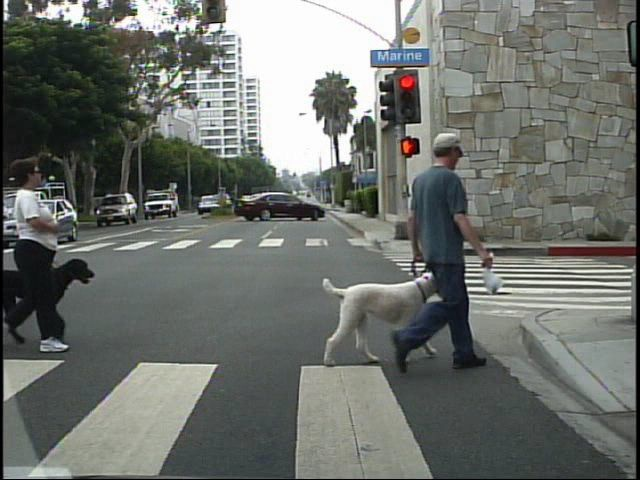person: (381, 113, 498, 375), (10, 152, 76, 356)
